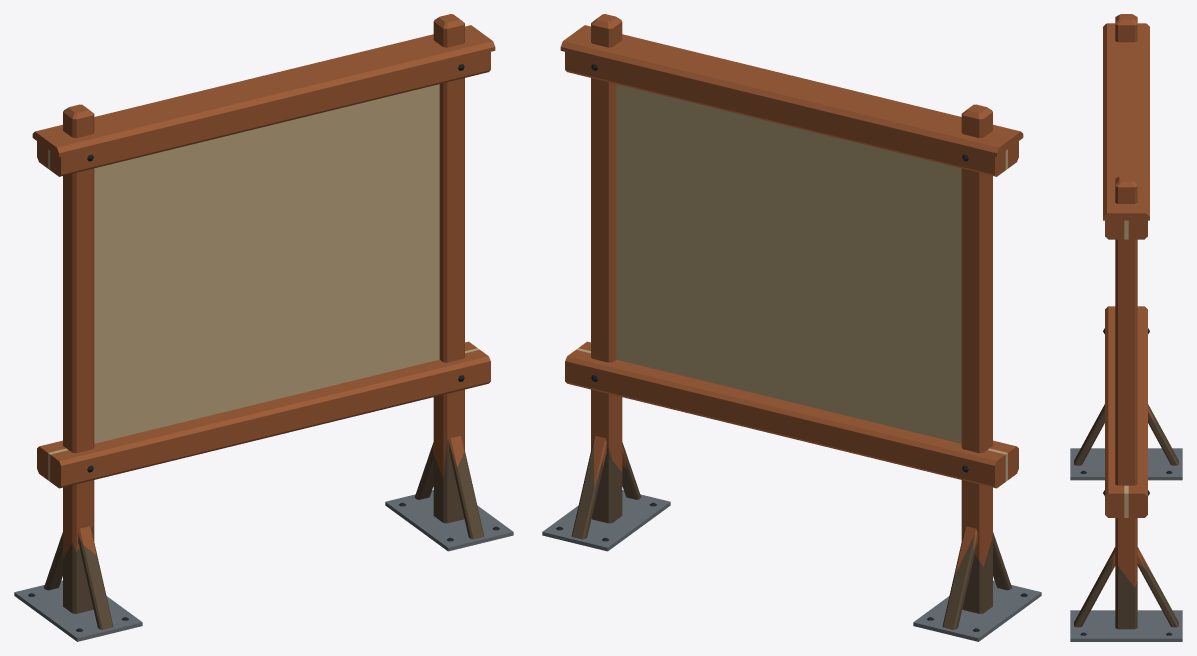
File: site-safety-sign-board-5408d5.glb
The picture shows the model from 3 angles, left to right: view 1: azimuth 30°, elevation 25°; view 2: azimuth 150°, elevation 25°; view 3: azimuth 270°, elevation 25°; orthographic projection. The views are drawn at different scales.
Visible parts, largest first — view 1: sign-board; view 2: sign-board; view 3: sign-board.
Part boxes in pixels (x1,y1,x2,y2): sign-board: (14,14,513,641); sign-board: (542,14,1041,641); sign-board: (1070,14,1182,641).
Bounding box in the file's own units: 2 × 2.2 × 0.5.
